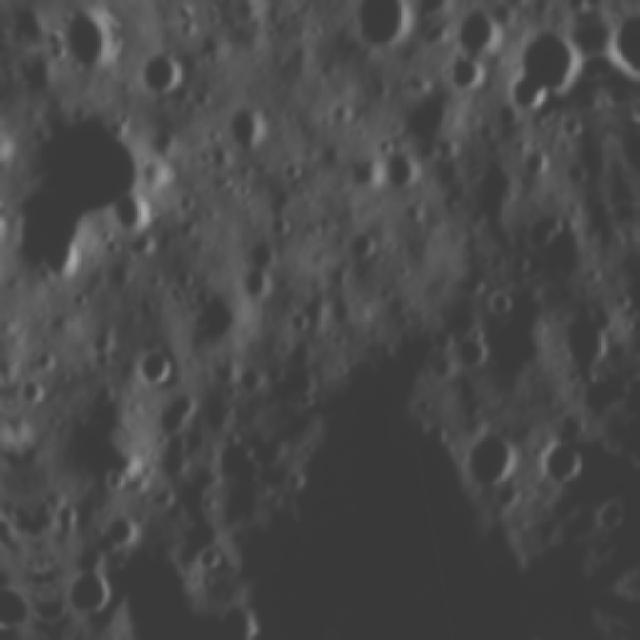crater: (0, 76, 191, 301), (492, 17, 597, 123), (445, 146, 532, 242), (452, 422, 538, 502), (172, 282, 257, 362), (203, 89, 283, 168), (330, 0, 422, 65), (117, 40, 197, 109), (53, 558, 127, 630), (432, 0, 511, 63), (141, 377, 210, 446), (532, 427, 600, 496), (99, 182, 164, 243), (92, 503, 152, 559), (128, 338, 182, 394), (377, 139, 431, 193), (604, 357, 640, 430), (437, 52, 488, 98), (338, 222, 384, 272), (588, 492, 634, 540), (27, 335, 71, 380), (188, 536, 234, 579), (12, 372, 52, 413), (555, 0, 587, 17)
